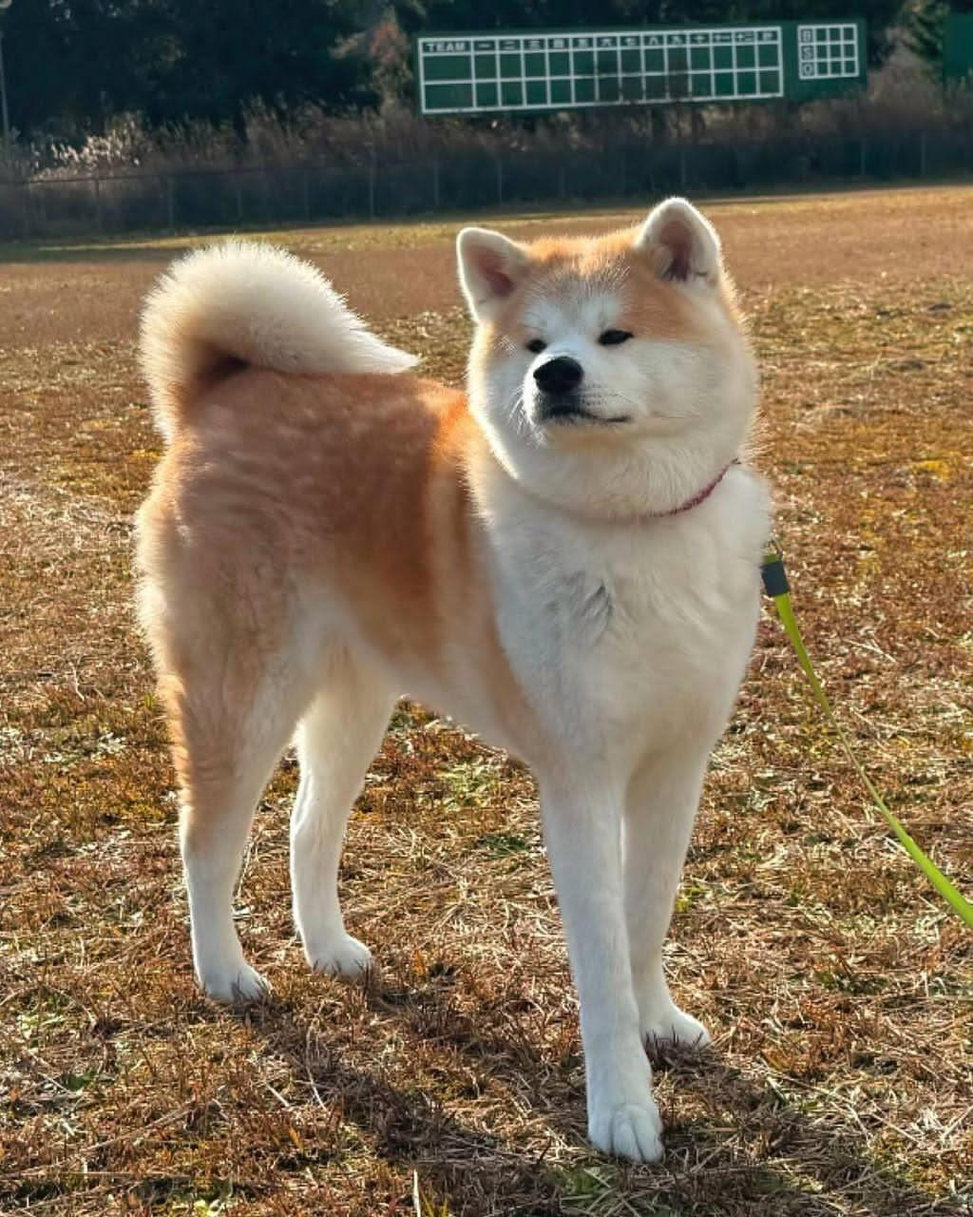dog: (139, 199, 768, 1160)
